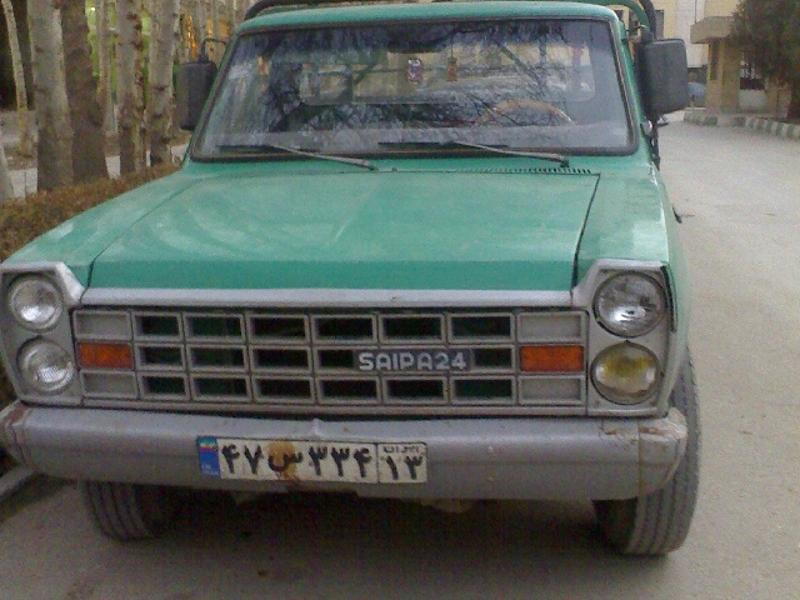Plate: (201, 429, 434, 488)
